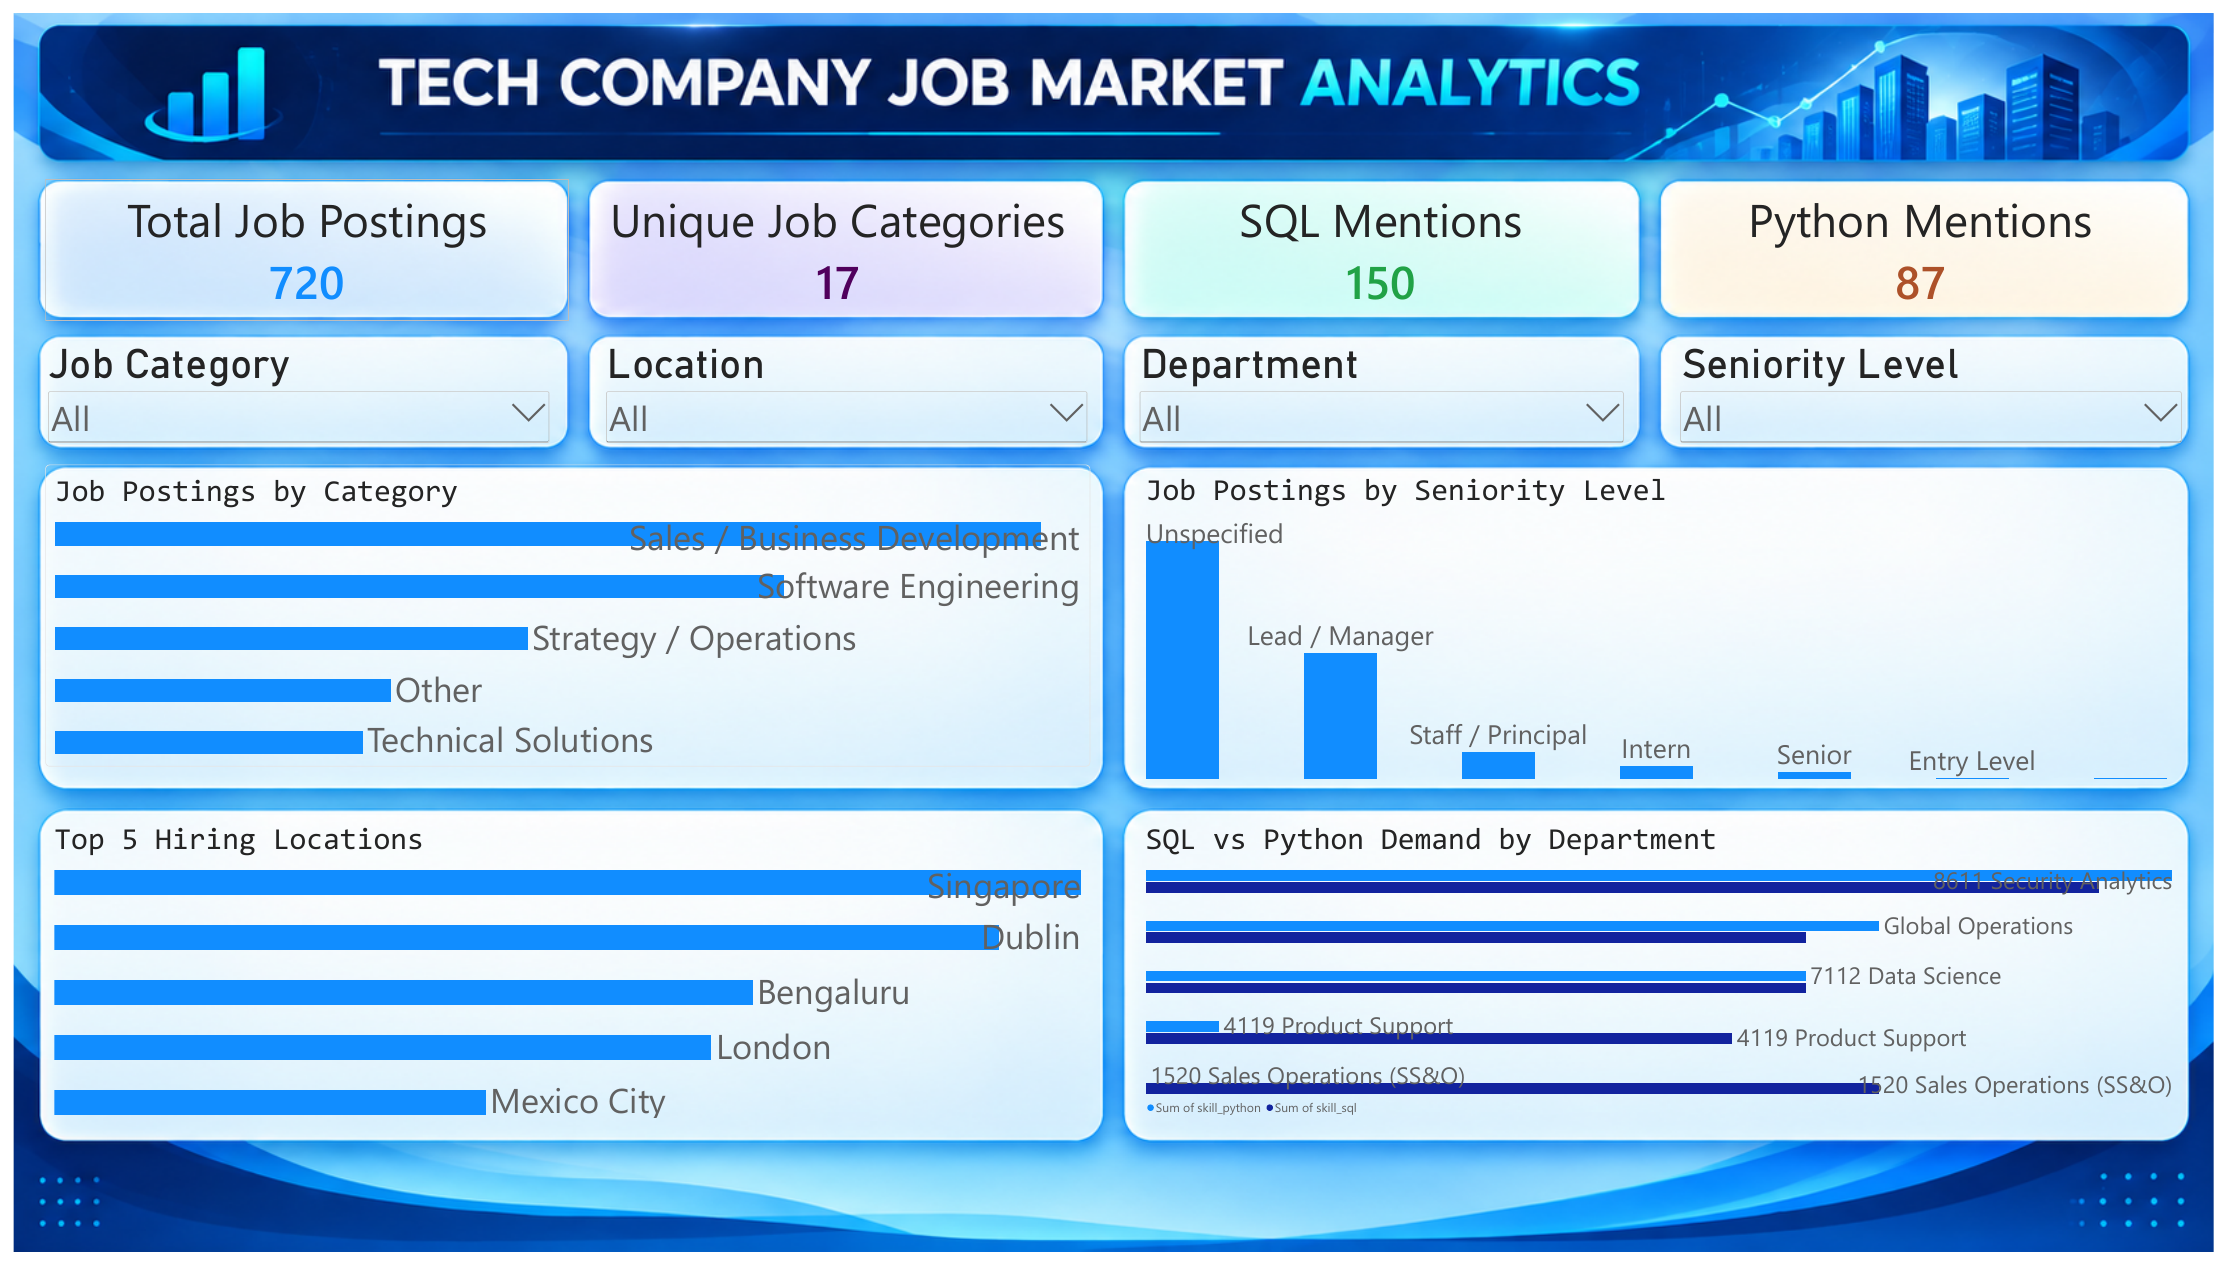

What the dashboard file says about the page in this screenshot:
{"tool":"powerbi","page":{"name":"Page 1","canvas":[3840,2160],"ordinal":0},"visuals":[{"type":"cardVisual","fields":{"Data":["Count(Stripe_Job_Postings_Featured.job_id)"]},"box":[55.3,289.1,914.2,246.6],"z":0},{"type":"cardVisual","fields":{"Data":["Stripe_Job_Postings_Featured.Python Mentions"]},"box":[2874.3,289.1,909.9,246.6],"z":1},{"type":"cardVisual","fields":{"Data":["Stripe_Job_Postings_Featured.SQL Mentions"]},"box":[1960.2,289.1,854.6,246.6],"z":2},{"type":"cardVisual","fields":{"Data":["Stripe_Job_Postings_Featured.Unique Job Categories"]},"box":[999.2,289.1,880.2,246.6],"z":3},{"type":"clusteredBarChart","title":"Job Postings by Category","fields":{"Category":["Stripe_Job_Postings_Featured.job_category"],"Y":["CountNonNull(Stripe_Job_Postings_Featured.job_id)"]},"box":[55,785,1825,565],"z":4},{"type":"clusteredColumnChart","title":"Job Postings by Seniority Level","fields":{"Category":["Stripe_Job_Postings_Featured.seniority_level"],"Y":["Count(Stripe_Job_Postings_Featured.job_id)"]},"box":[1960.2,786.6,1824.1,565.5],"z":5},{"type":"clusteredBarChart","title":"Top 5 Hiring Locations","fields":{"Category":["Stripe_Job_Postings_Featured.location"],"Y":["CountNonNull(Stripe_Job_Postings_Featured.job_id)"]},"box":[55.3,1394.6,1824.1,548.5],"z":6},{"type":"clusteredBarChart","title":"SQL vs Python Demand by Department","fields":{"Category":["Stripe_Job_Postings_Featured.department"],"Y":["Sum(Stripe_Job_Postings_Featured.skill_python)","Sum(Stripe_Job_Postings_Featured.skill_sql)"]},"box":[1960.2,1394.6,1824.1,548.5],"z":8},{"type":"slicer","fields":{"Values":["Stripe_Job_Postings_Featured.job_category"]},"box":[55.3,569.8,884.4,187.1],"z":9},{"type":"slicer","fields":{"Values":["Stripe_Job_Postings_Featured.location"]},"box":[1029,569.8,850.4,187.1],"z":10},{"type":"slicer","fields":{"Values":["Stripe_Job_Postings_Featured.department"]},"box":[1960.2,569.8,854.6,187.1],"z":11},{"type":"slicer","fields":{"Values":["Stripe_Job_Postings_Featured.seniority_level"]},"box":[2904.1,569.8,884.4,187.1],"z":12}]}

Visuals, with their boxes in screenshot pixels (x1, y1, x2, y2), scaled from the page's 3840x2160 canvas onto the 2228x1265 screenshot:
cardVisual - Count(Stripe_Job_Postings_Featured.job_id): bbox=[32, 169, 563, 314]
cardVisual - Stripe_Job_Postings_Featured.Python Mentions: bbox=[1668, 169, 2196, 314]
cardVisual - Stripe_Job_Postings_Featured.SQL Mentions: bbox=[1137, 169, 1633, 314]
cardVisual - Stripe_Job_Postings_Featured.Unique Job Categories: bbox=[580, 169, 1090, 314]
"Job Postings by Category" clusteredBarChart: bbox=[32, 460, 1091, 791]
"Job Postings by Seniority Level" clusteredColumnChart: bbox=[1137, 461, 2196, 792]
"Top 5 Hiring Locations" clusteredBarChart: bbox=[32, 817, 1090, 1138]
"SQL vs Python Demand by Department" clusteredBarChart: bbox=[1137, 817, 2196, 1138]
slicer - Stripe_Job_Postings_Featured.job_category: bbox=[32, 334, 545, 443]
slicer - Stripe_Job_Postings_Featured.location: bbox=[597, 334, 1090, 443]
slicer - Stripe_Job_Postings_Featured.department: bbox=[1137, 334, 1633, 443]
slicer - Stripe_Job_Postings_Featured.seniority_level: bbox=[1685, 334, 2198, 443]
